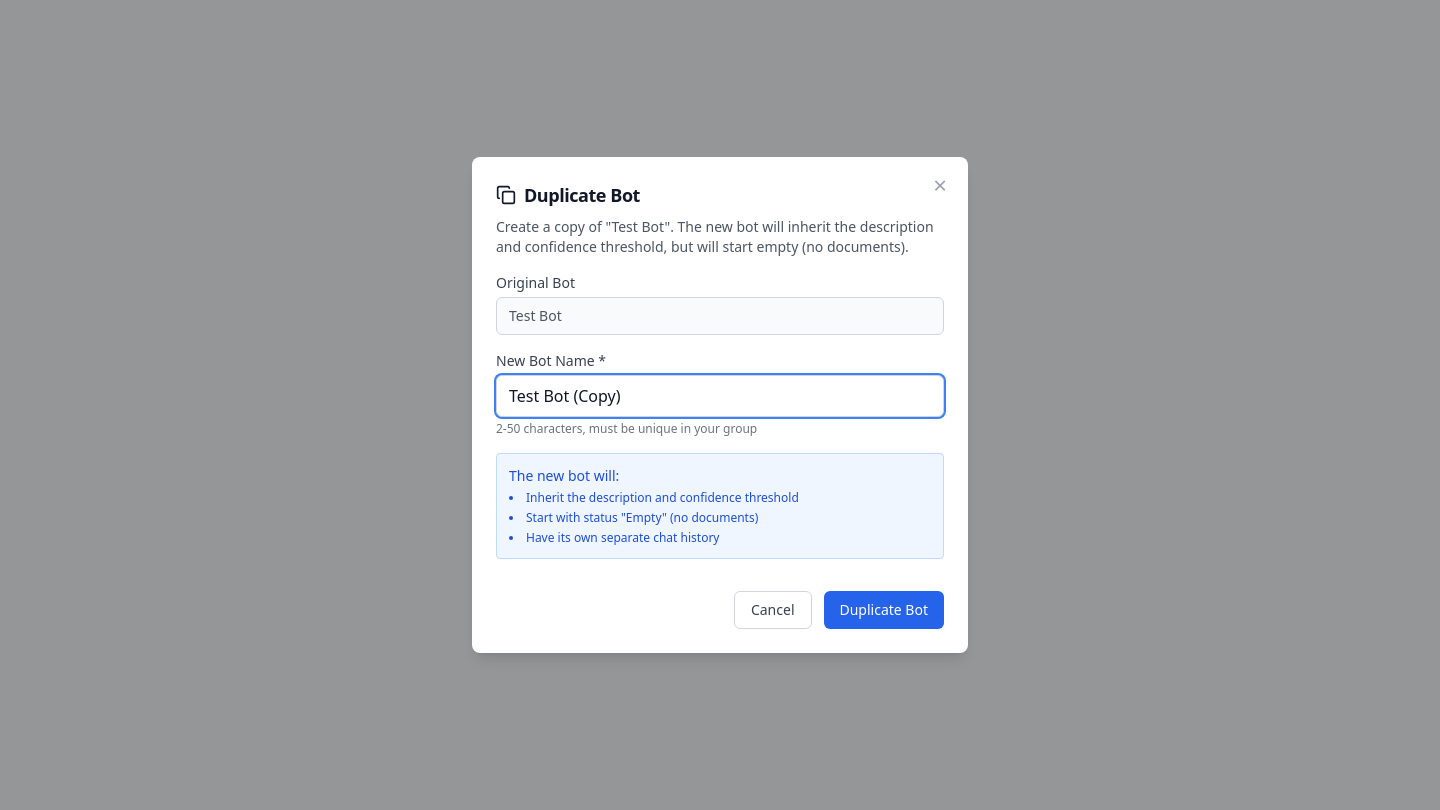
Test case: DuplicateBotModal › validates name length on change
This screenshot has width=1440, height=810.
# Test too short
Clear the field with placeholder "e.g., HR Bot (Copy)" at [720, 396], box left=496, top=375, right=944, bottom=417
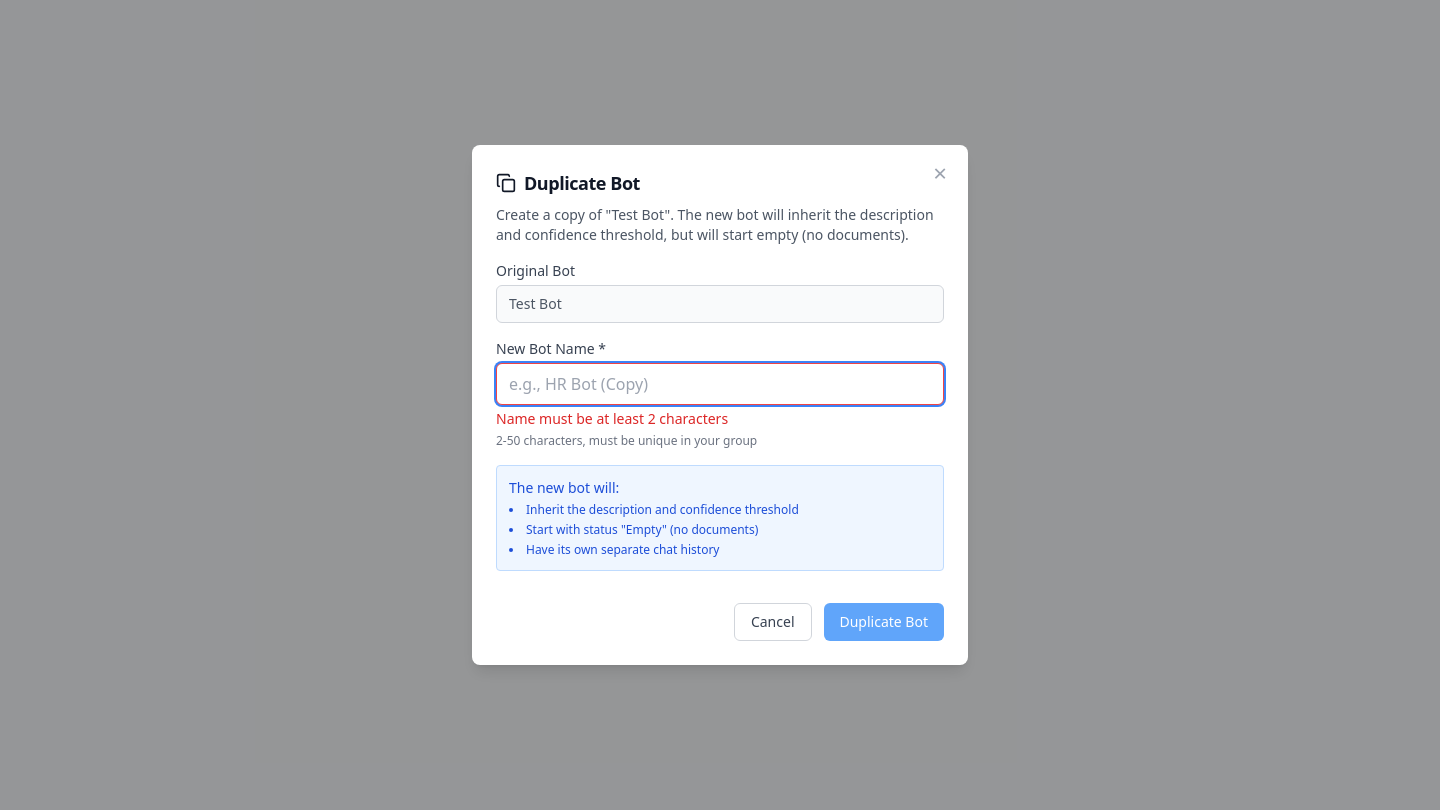
Type "A" into the field with placeholder "e.g., HR Bot (Copy)".
click(720, 384); type("A")  # box left=496, top=363, right=944, bottom=405
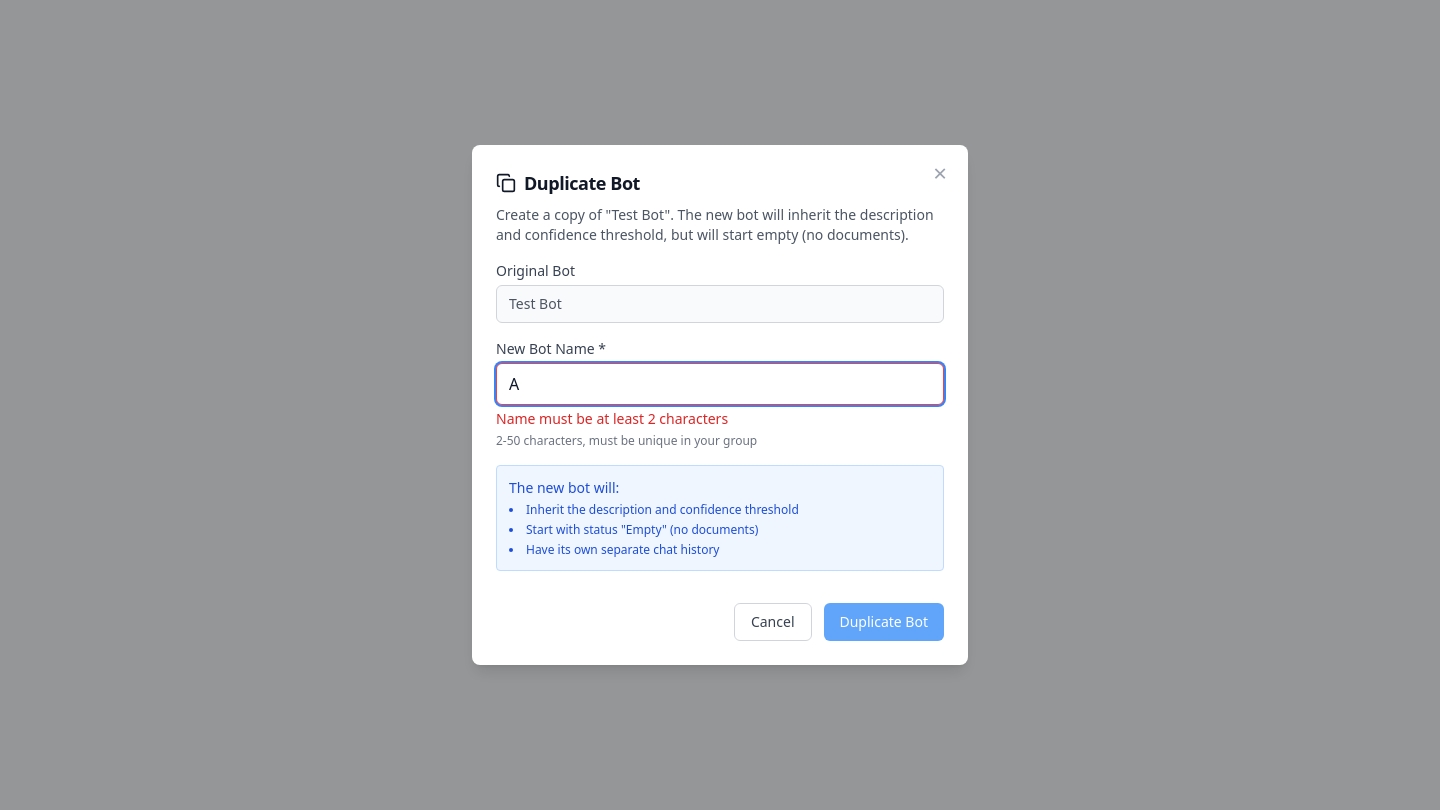
Expected: the text "Name must be at least 2 characters" is shown, left=496, top=409, right=728, bottom=428
# Test valid length
Replace the text in the field with placeholder "e.g., HR Bot (Copy)" with "Valid Name" at [720, 384], box left=496, top=363, right=944, bottom=405
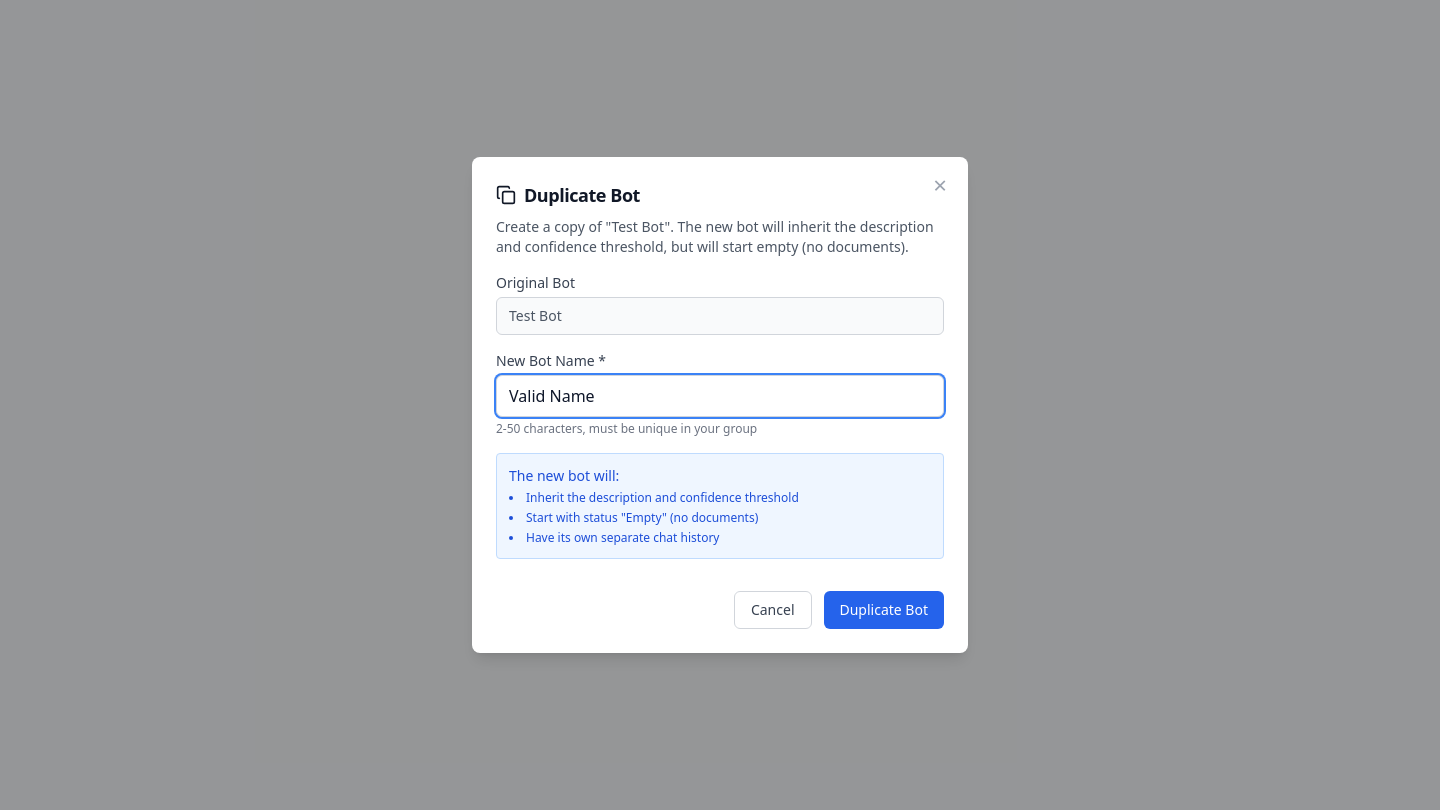
Expected: the text "Name must be at least 2 characters" is gone
